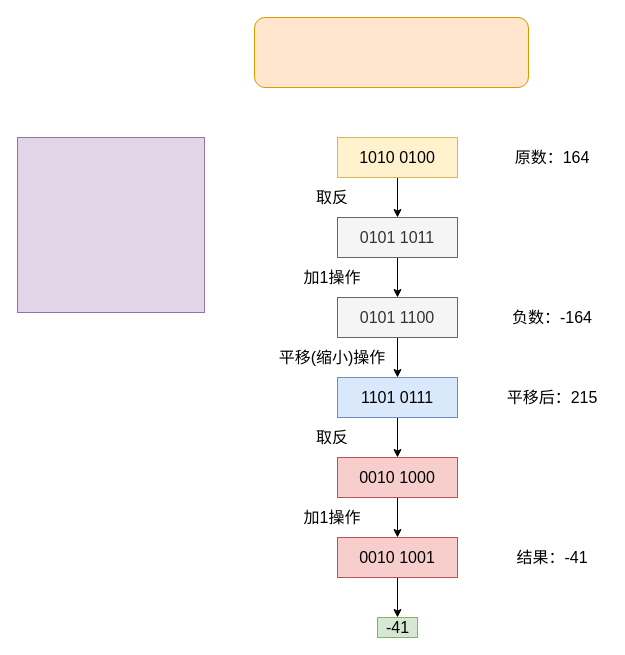
This 625x655 diagram has some shape labels left out. Each missing label, with the box of its shape:
-164右移两位运算（缩小4倍）: (254, 16, 528, 88)
Tips 计算机它运算有个小技巧就是：减法用加法进行计算，然后取反可以得到原数 如题：算完以后得到215，但是高位是负数，所以结果应该是：256-215=41: (16, 136, 204, 312)
